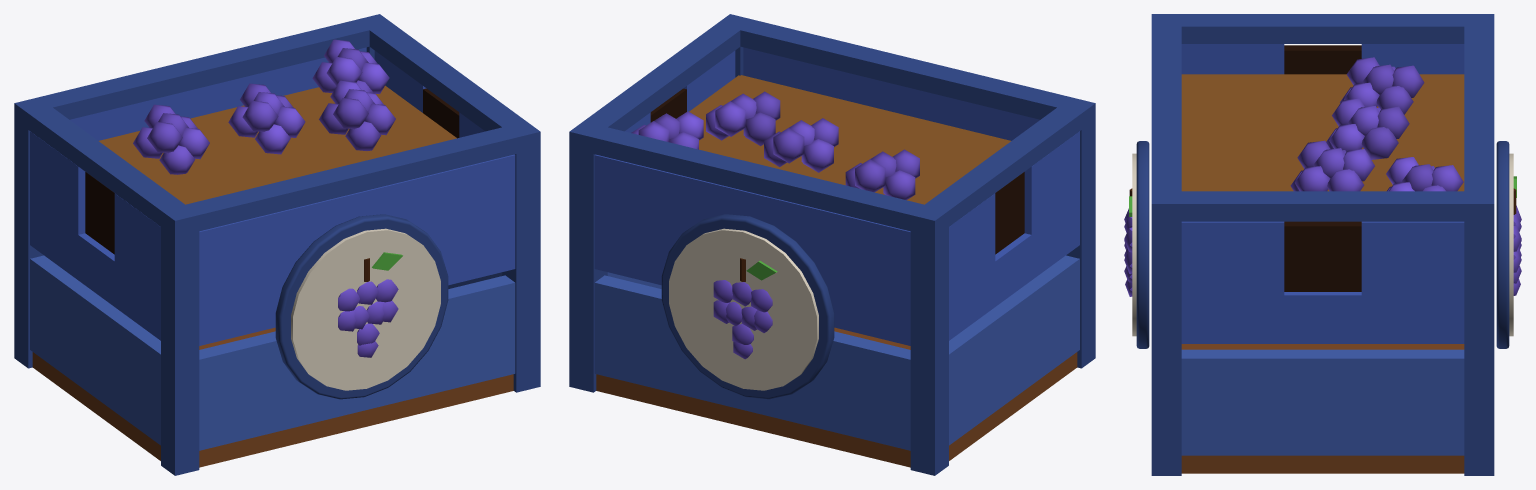
Rendered from crate_grapes.glb.
3 views of the same model, side by side, from view 1: azimuth 30°, elevation 25°; view 2: azimuth 150°, elevation 25°; view 3: azimuth 270°, elevation 25° (orthographic). The views are drawn at different scales.
Parts seen in each view (by area): view 1: pv3_crate_grapes; view 2: pv3_crate_grapes; view 3: pv3_crate_grapes.
Part boxes in pixels (x1,y1,x2,y2): pv3_crate_grapes: (14,14,540,475); pv3_crate_grapes: (569,14,1095,475); pv3_crate_grapes: (1124,14,1521,475).
Size of the model in its own units: 0.42 by 0.2866 by 0.3712.
